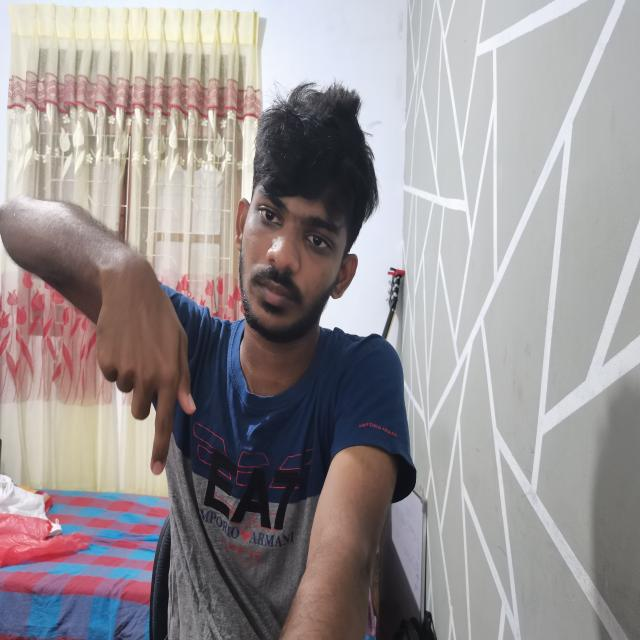Yes: (2, 182, 234, 471)
